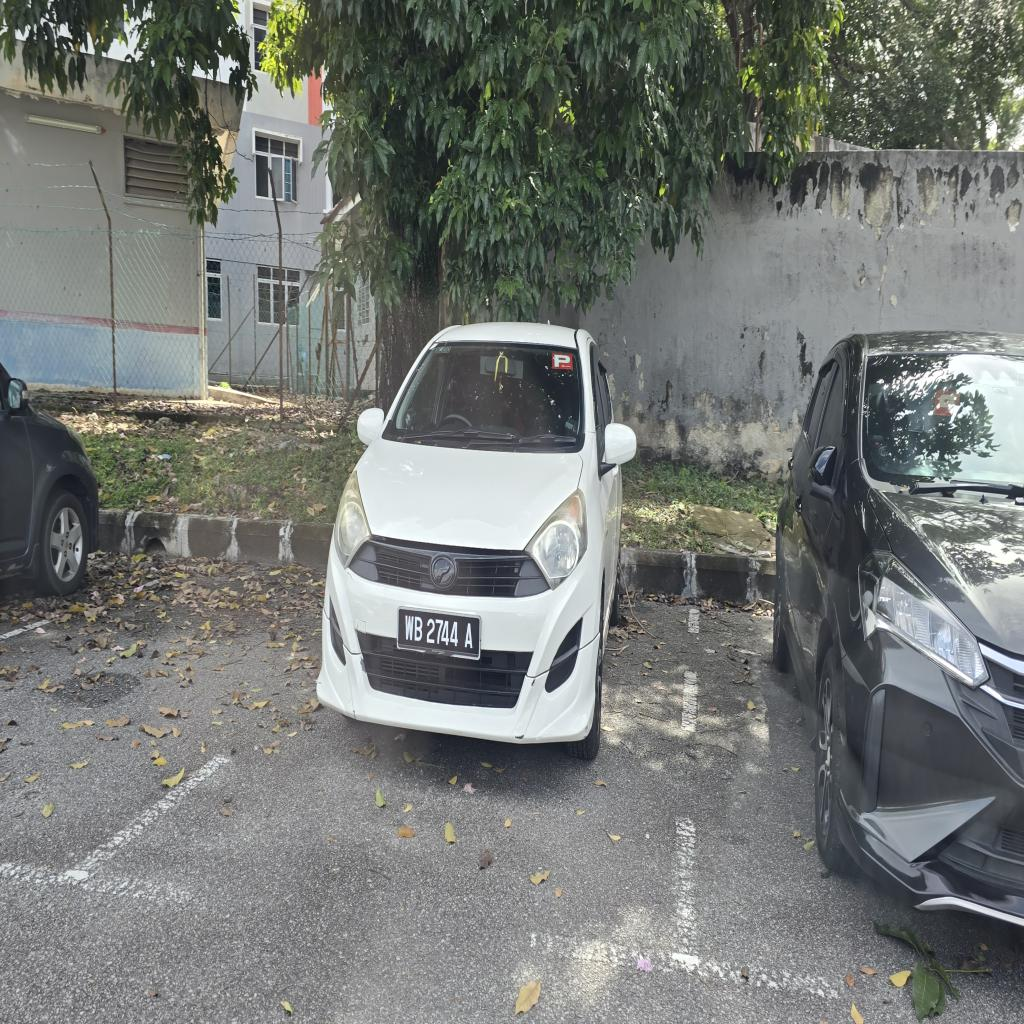car: (318, 323, 636, 758)
car plate: (398, 610, 480, 659)
